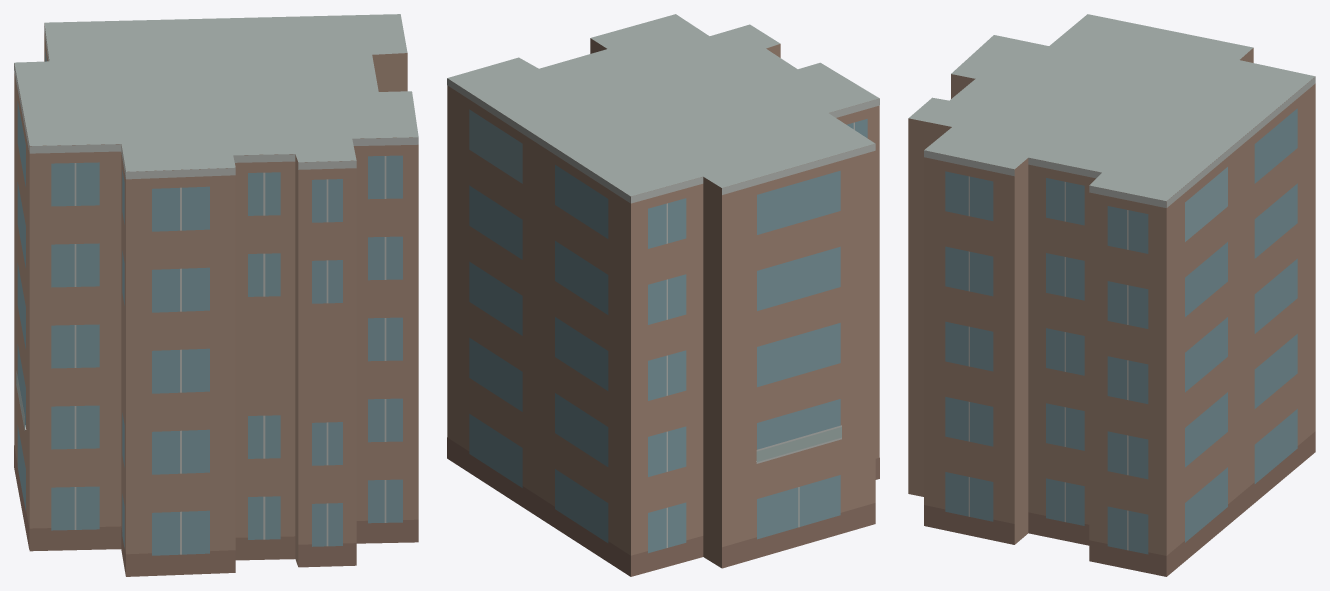
The model's file is survey-upis-32952592.glb.
The picture shows the model from 3 angles, left to right: view 1: azimuth 30°, elevation 25°; view 2: azimuth 150°, elevation 25°; view 3: azimuth 270°, elevation 25°; orthographic projection. The views are drawn at different scales.
Parts seen in each view (by area): view 1: survey-upis-32952592.tmp; view 2: survey-upis-32952592.tmp; view 3: survey-upis-32952592.tmp.
Part boxes in pixels (x1,y1,x2,y2): survey-upis-32952592.tmp: (14,14,418,576); survey-upis-32952592.tmp: (447,14,879,576); survey-upis-32952592.tmp: (908,14,1315,576).
Bounding box in the file's own units: 14.01 × 13.1 × 12.88.
